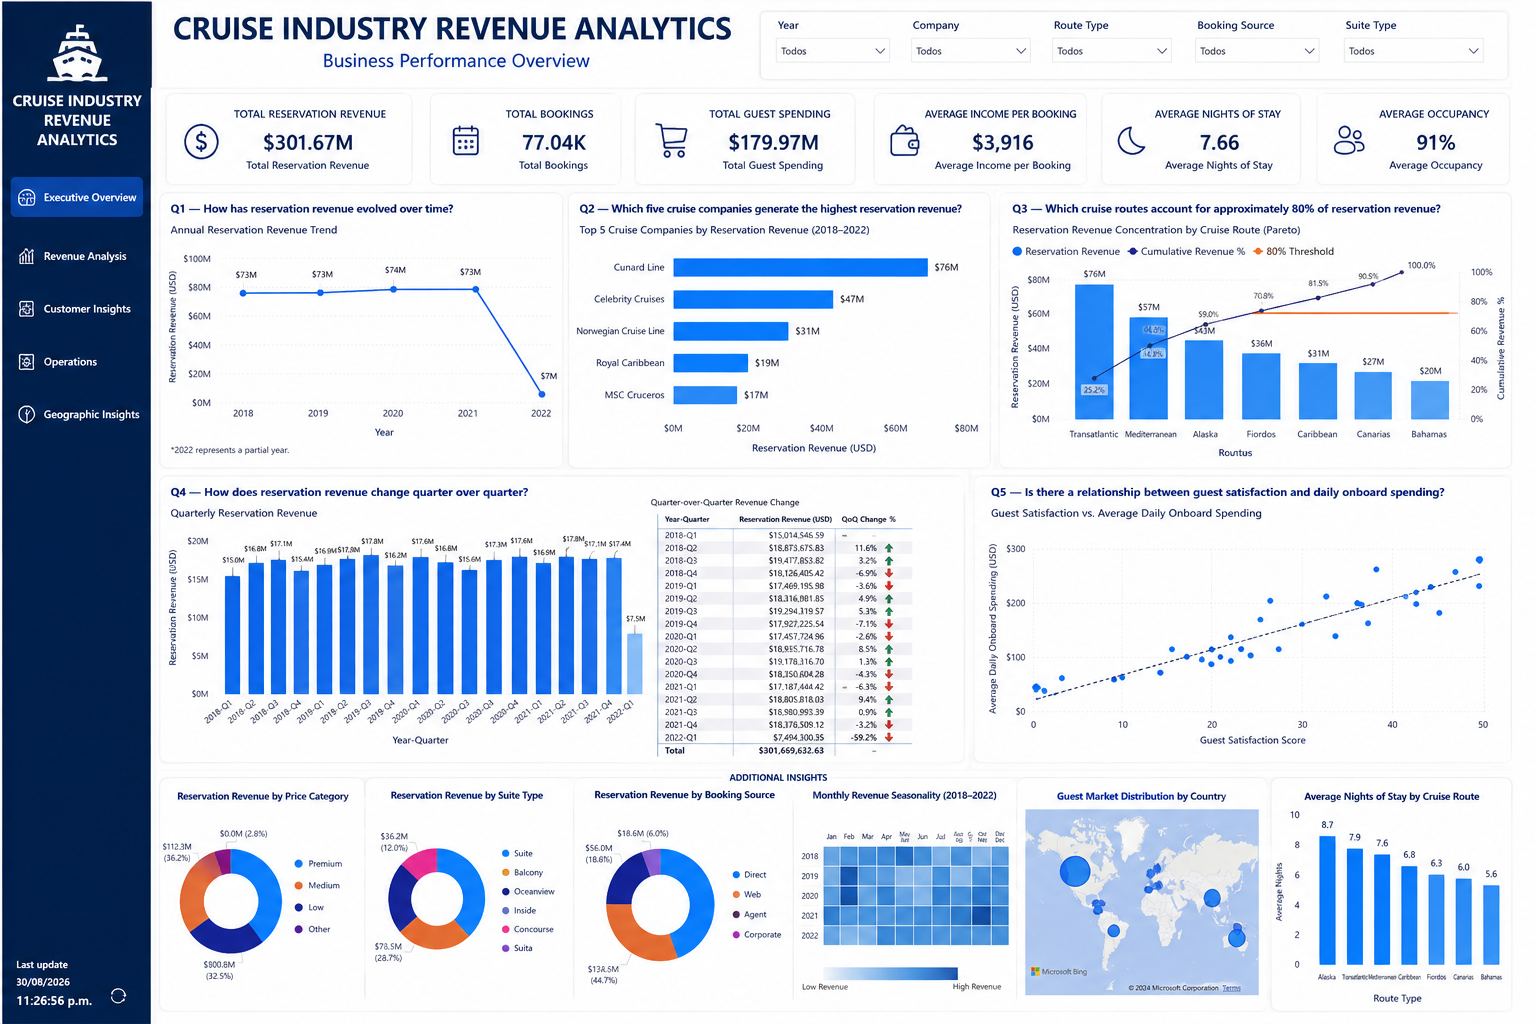

The page's visual inventory and layout, read from the dashboard file:
{"tool":"powerbi","page":{"name":"Dashboard","canvas":[3000,2500],"ordinal":1},"visuals":[{"type":"shape","box":[0,0,270,2415],"z":0},{"type":"card","title":"Last update:","fields":{"Values":["Medidas.time"]},"box":[20,2285,250,110],"z":1000},{"type":"lineChart","title":"Annual Reservation Revenue Trend (Total Reservation Income por Año)","fields":{"Category":["calendario.Año"],"Y":["Medidas.Total Reservation Income"]},"box":[288,346,870,254],"z":2000},{"type":"slicer","fields":{"Values":["calendario.Año"]},"box":[1096,28,238,92],"z":3000},{"type":"clusteredBarChart","fields":{"Category":["calendario.Mes_Name"],"Y":["Medidas.Ingreso Promedio por Mes"]},"box":[1375,1912.5,732.5,547.5],"z":4000},{"type":"textbox","box":[288,284,632,42],"z":5000},{"type":"textbox","box":[1377.5,1872.5,486,40],"z":6000},{"type":"textbox","box":[1178,290,704,32],"z":7000},{"type":"clusteredBarChart","fields":{"Category":["public ships_dim.company"],"Y":["Medidas.top5"]},"box":[1216,328,704,380],"z":8000},{"type":"lineClusteredColumnComboChart","title":"Reservation Revenue Concentration By Cruise Route (Pareto))","fields":{"Category":["public ships_dim.route_type"],"Y":["Medidas.Total Reservation Income"],"Y2":["Medidas.Cumulative Revenue %","Medidas.80% Target"]},"box":[1998,348,757.5,410],"z":10000},{"type":"textbox","box":[1974,290,852,38],"z":11000},{"type":"pivotTable","title":"Quarter over Quarter Revenue Change","fields":{"Rows":["calendario.AñoTrimestre"],"Values":["Medidas.Total Reservation Income","Medidas.Variación QoQ %"]},"box":[1035,825,416,410],"z":12000},{"type":"clusteredColumnChart","title":"Quarterly Reservation Revenue","fields":{"Category":["calendario.AñoTrimestre"],"Y":["Medidas.Total Reservation Income"]},"box":[288,804,746,428],"z":13000},{"type":"textbox","box":[278,728,1022,50],"z":13001},{"type":"textbox","box":[497.5,760,642,46],"z":13002},{"type":"scatterChart","title":"Guest Satisfaction vs Avarage daily Onboard Spending","fields":{"Category":["public bookings_fact.satisfaction_range"],"X":["Sum(public bookings_fact.satisfaction_range)"],"Y":["Medidas.Gasto Diario Promedio"]},"box":[1530,857.5,1375,375],"z":13003},{"type":"textbox","box":[1505,792.5,987.5,62.5],"z":13004},{"type":"textbox","box":[288,0,690,92],"z":13005},{"type":"slicer","fields":{"Values":["public ships_dim.company"]},"box":[1382,28,238,92],"z":13006},{"type":"slicer","fields":{"Values":["public ships_dim.route_type"]},"box":[1644,28,238,92],"z":13007},{"type":"slicer","fields":{"Values":["public suites_dim.suite_type"]},"box":[1920,28,238,92],"z":13008},{"type":"card","title":"TOTAL RESERVATION INCOME","fields":{"Values":["Medidas.Total Reservation Income"]},"box":[298,116,362,146],"z":13009},{"type":"card","title":"TOTAL BOOKINGS","fields":{"Values":["Medidas.Total Bookings"]},"box":[744,120,322,142],"z":13010},{"type":"card","title":"TOTAL GUEST SPENDING","fields":{"Values":["Medidas.Total Guest Spending"]},"box":[1158,120,322,142],"z":13011},{"type":"card","title":"AVERAGE INCOME PER BOOKING","fields":{"Values":["Medidas.Average Income per Booking"]},"box":[1578,120,322,142],"z":13012},{"type":"card","title":"AVERAGE NIGHTS OF STAY","fields":{"Values":["Medidas.Average Nights"]},"box":[2078,120,322,142],"z":13013},{"type":"card","title":"AVERAGE OCCUPANCY","fields":{"Values":["Medidas.Average Occupancy"]},"box":[2456,120,322,142],"z":13014},{"type":"donutChart","title":"Reservation Revenue by Price Category","fields":{"Category":["public bookings_fact.price_category"],"Y":["Medidas.Total Reservation Income"]},"box":[297.5,1422.5,606,398],"z":13015},{"type":"textbox","box":[287.5,1355,690,67.5],"z":13016},{"type":"pieChart","title":"Reservation Revenue By Suite Type","fields":{"Category":["public suites_dim.suite_type"],"Y":["Medidas.Total Reservation Income"]},"box":[957.5,1422.5,668,398],"z":13017},{"type":"donutChart","title":" Reservation Revenue  By Booking Source","fields":{"Category":["public booking_sources_dim.booking_source"],"Y":["Medidas.Total Reservation Income"]},"box":[1682.5,1422.5,632,450],"z":13018},{"type":"pivotTable","title":"Monthly Revenue Seasonality (2018-2022)","fields":{"Columns":["calendario.Año"],"Rows":["calendario.Mes"],"Values":["Medidas.Total Reservation Income"]},"box":[2350,1422.5,555,327.5],"z":13019},{"type":"clusteredColumnChart","title":"Average Nights of Stay per Route Type","fields":{"Category":["public ships_dim.route_type"],"Y":["Medidas.Average Nights"]},"box":[2185,1912.5,642.5,502.5],"z":13020},{"type":"filledMap","title":"Guest Market Distribution By Country","fields":{"Category":["public countries_dim.guest_country"],"X":["Medidas.Total Reservation Income"]},"box":[307.5,1872.5,986,542],"z":13021},{"type":"textbox","box":[762.5,1307.5,1375,52.5],"z":13022},{"type":"textbox","box":[0,200,270,90],"z":13023}]}

Visuals, with their boxes on the page's 3000x2500 design canvas (x1, y1, x2, y2). These are canvas units, not pixel positions in the 1536x1024 screenshot, which may show the page scaled, cropped or inside an application window:
shape: [0,0,270,2415]
"Last update:" card: [20,2285,270,2395]
"Annual Reservation Revenue Trend (Total Reservation Income por Año)" lineChart: [288,346,1158,600]
slicer - calendario.Año: [1096,28,1334,120]
clusteredBarChart - calendario.Mes_Name x Medidas.Ingreso Promedio por Mes: [1375,1912,2108,2460]
textbox: [288,284,920,326]
textbox: [1378,1872,1864,1912]
textbox: [1178,290,1882,322]
clusteredBarChart - public ships_dim.company x Medidas.top5: [1216,328,1920,708]
"Reservation Revenue Concentration By Cruise Route (Pareto))" lineClusteredColumnComboChart: [1998,348,2756,758]
textbox: [1974,290,2826,328]
"Quarter over Quarter Revenue Change" pivotTable: [1035,825,1451,1235]
"Quarterly Reservation Revenue" clusteredColumnChart: [288,804,1034,1232]
textbox: [278,728,1300,778]
textbox: [498,760,1140,806]
"Guest Satisfaction vs Avarage daily Onboard Spending" scatterChart: [1530,858,2905,1232]
textbox: [1505,792,2492,855]
textbox: [288,0,978,92]
slicer - public ships_dim.company: [1382,28,1620,120]
slicer - public ships_dim.route_type: [1644,28,1882,120]
slicer - public suites_dim.suite_type: [1920,28,2158,120]
"TOTAL RESERVATION INCOME" card: [298,116,660,262]
"TOTAL BOOKINGS" card: [744,120,1066,262]
"TOTAL GUEST SPENDING" card: [1158,120,1480,262]
"AVERAGE INCOME PER BOOKING" card: [1578,120,1900,262]
"AVERAGE NIGHTS OF STAY" card: [2078,120,2400,262]
"AVERAGE OCCUPANCY" card: [2456,120,2778,262]
"Reservation Revenue by Price Category" donutChart: [298,1422,904,1820]
textbox: [288,1355,978,1422]
"Reservation Revenue By Suite Type" pieChart: [958,1422,1626,1820]
" Reservation Revenue  By Booking Source" donutChart: [1682,1422,2314,1872]
"Monthly Revenue Seasonality (2018-2022)" pivotTable: [2350,1422,2905,1750]
"Average Nights of Stay per Route Type" clusteredColumnChart: [2185,1912,2828,2415]
"Guest Market Distribution By Country" filledMap: [308,1872,1294,2414]
textbox: [762,1308,2138,1360]
textbox: [0,200,270,290]
